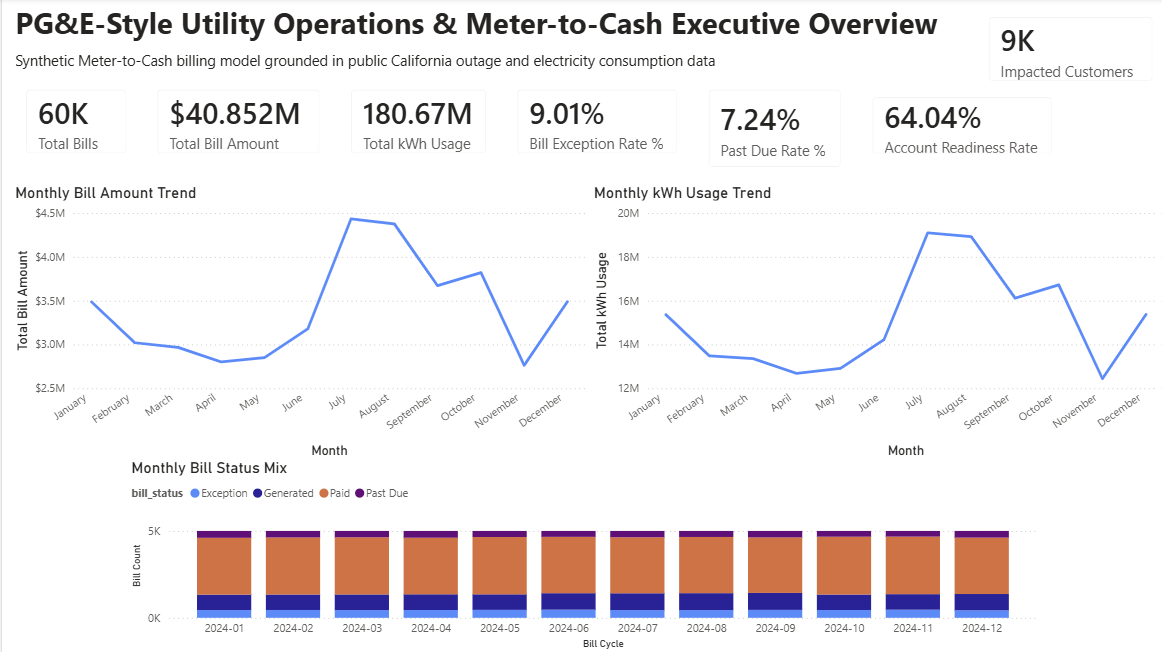

The dashboard page shown, as its layout file describes it:
{"tool":"powerbi","page":{"name":"Executive Summary","canvas":[1280,720],"ordinal":0},"visuals":[{"type":"textbox","box":[9.6,0,1270.7,65.9],"z":0},{"type":"textbox","box":[9.6,52.1,1270.7,31.6],"z":1000},{"type":"cardVisual","fields":{"Data":["Monthly Billing Trend.Total Bills"]},"box":[9.6,83.7,144.1,104.3],"z":2000},{"type":"cardVisual","fields":{"Data":["Monthly Billing Trend.Total Bill Amount"]},"box":[153.7,83.7,212.7,104.3],"z":3000},{"type":"cardVisual","fields":{"Data":["Monthly Billing Trend.Total kWh Usage"]},"box":[366.4,83.7,182.5,104.3],"z":4000},{"type":"cardVisual","fields":{"Data":["Monthly Billing Trend.Bill Exception Rate %"]},"box":[548.9,83.7,209.9,104.3],"z":5000},{"type":"cardVisual","fields":{"Data":["Monthly Billing Trend.Past Due Rate %"]},"box":[758.8,83.7,179.8,119.4],"z":6000},{"type":"cardVisual","fields":{"Data":["Avg(Account Readiness.readiness_flag)"]},"box":[938.6,91.9,231.9,96.1],"z":7000},{"type":"cardVisual","title":"Impacted Customers","fields":{"Data":["Sum(Outage Context.total_impacted_customers)"]},"box":[1066.2,4.1,214.1,104.3],"z":8000},{"type":"lineChart","title":"Monthly Bill Amount Trend","fields":{"Category":["Monthly Billing Trend.cycle_start_date.Variation.Date Hierarchy.Month"],"Y":["Monthly Billing Trend.Total Bill Amount"]},"box":[9.6,203.1,635.3,307.4],"z":9000},{"type":"lineChart","title":"Monthly kWh Usage Trend","fields":{"Category":["Monthly Billing Trend.cycle_start_date.Variation.Date Hierarchy.Month"],"Y":["Monthly Billing Trend.Total kWh Usage"]},"box":[644.9,203.1,635.3,307.4],"z":10000},{"type":"columnChart","title":"Monthly Bill Status Mix","fields":{"Category":["Bill Status Summary.billing_cycle_id"],"Y":["Sum(Bill Status Summary.bill_count)"],"Series":["Bill Status Summary.bill_status"]},"box":[137.2,505,1004.5,215.4],"z":11000}]}

Visuals, with their boxes in screenshot pixels (x1, y1, x2, y2), scaled from the page's 1280x720 canvas onto the 1162x652 screenshot:
textbox: l=9, t=0, r=1161, b=60
textbox: l=9, t=47, r=1161, b=76
cardVisual - Monthly Billing Trend.Total Bills: l=9, t=76, r=140, b=170
cardVisual - Monthly Billing Trend.Total Bill Amount: l=140, t=76, r=333, b=170
cardVisual - Monthly Billing Trend.Total kWh Usage: l=333, t=76, r=498, b=170
cardVisual - Monthly Billing Trend.Bill Exception Rate %: l=498, t=76, r=689, b=170
cardVisual - Monthly Billing Trend.Past Due Rate %: l=689, t=76, r=852, b=184
cardVisual - Avg(Account Readiness.readiness_flag): l=852, t=83, r=1063, b=170
"Impacted Customers" cardVisual: l=968, t=4, r=1161, b=98
"Monthly Bill Amount Trend" lineChart: l=9, t=184, r=585, b=462
"Monthly kWh Usage Trend" lineChart: l=585, t=184, r=1161, b=462
"Monthly Bill Status Mix" columnChart: l=125, t=457, r=1036, b=651
